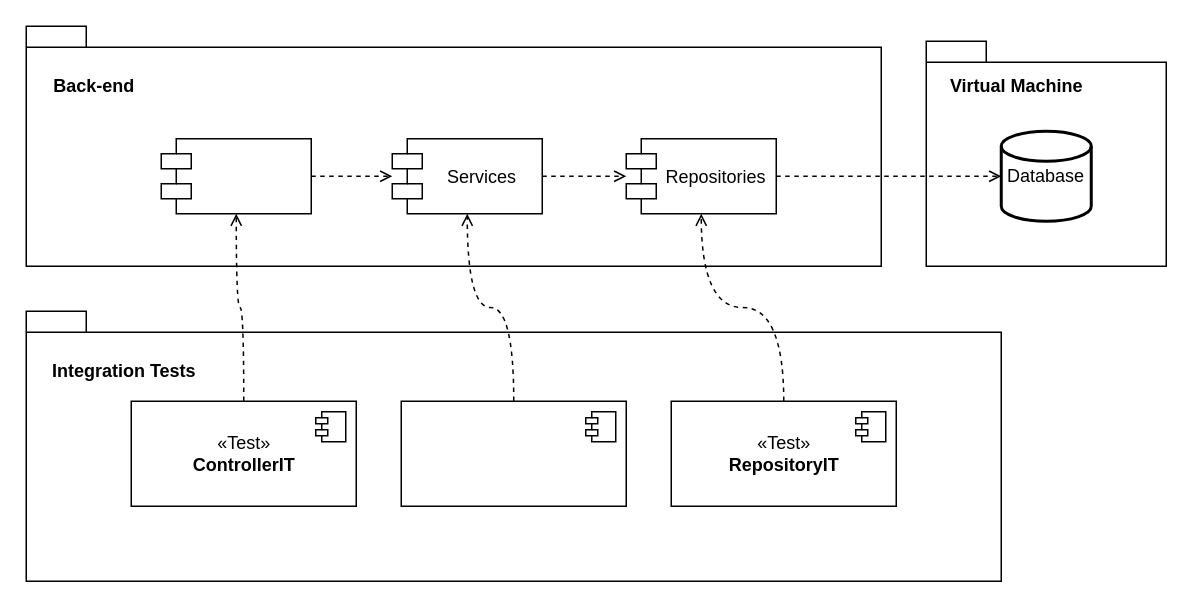
This 1193x608 diagram has some shape labels left out. Each missing label, with the box of its shape:
Controllers: (160, 137, 311, 214)
«Test» ServiceIT: (400, 400, 626, 506)
